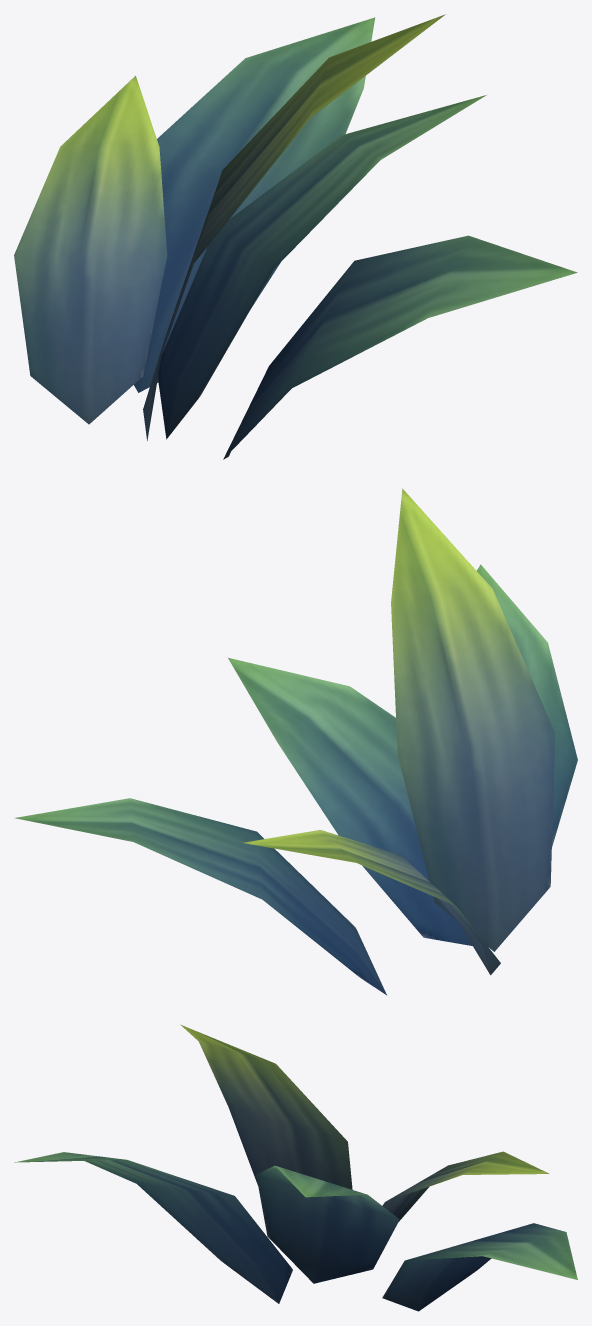
Rendered from scenes_cave_grass01b.FBX.
The picture shows the model from 3 angles, top to bottom: view 1: azimuth 30°, elevation 25°; view 2: azimuth 150°, elevation 25°; view 3: azimuth 270°, elevation 25°; orthographic projection. The views are drawn at different scales.
Visible parts, largest first — view 1: scenes_cave_grass01b; view 2: scenes_cave_grass01b; view 3: scenes_cave_grass01b.
Boxes of the visible parts, x1,y1,x2,y2 form: scenes_cave_grass01b: (14,14,577,459); scenes_cave_grass01b: (14,488,577,995); scenes_cave_grass01b: (14,1024,577,1311).
Bounding box in the file's own units: 62.46 × 58.94 × 88.91.
